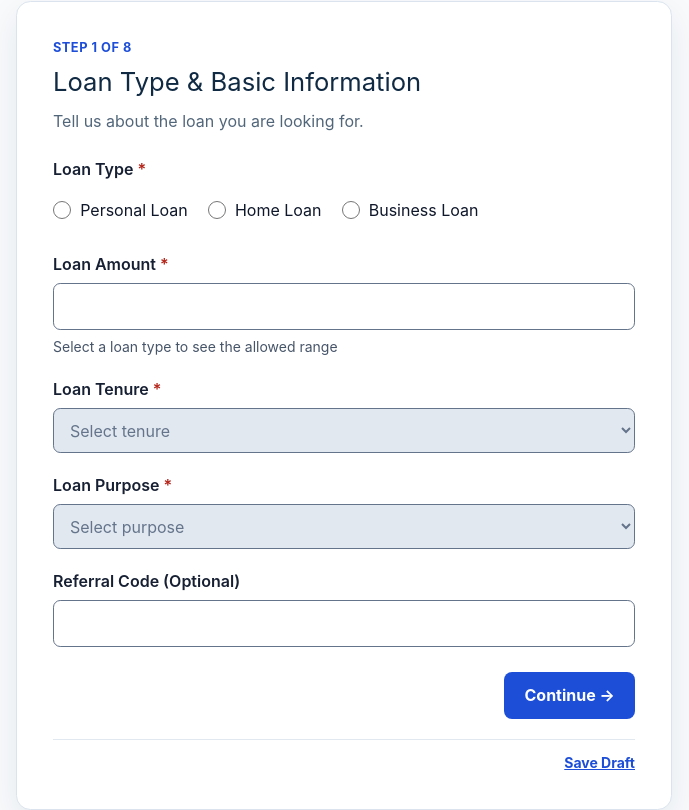
Day 3 loan application › shows an error for an invalid referral code
(page scrolled)
Type "a-1" into the field labelled "Referral Code (Optional)" at (344, 624), box 53,600 -> 635,647
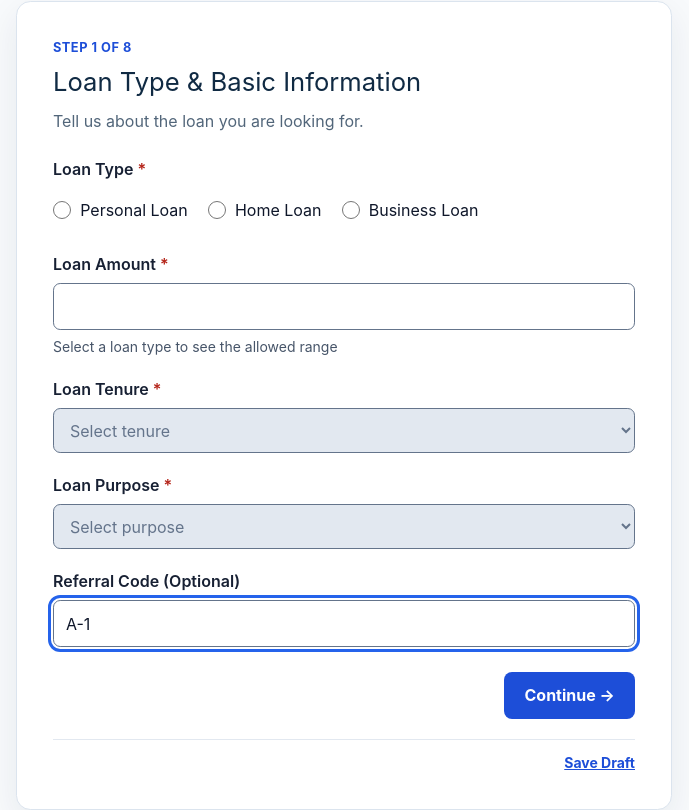
Press Tab
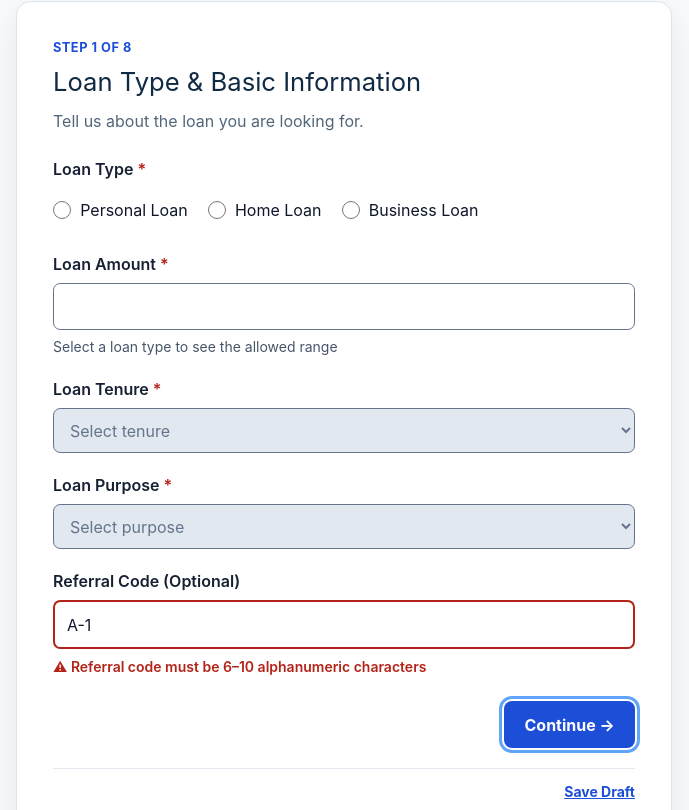
Now the text "Referral code must be 6–10 alphanumeric characters" is shown, box 71,658 -> 426,675
